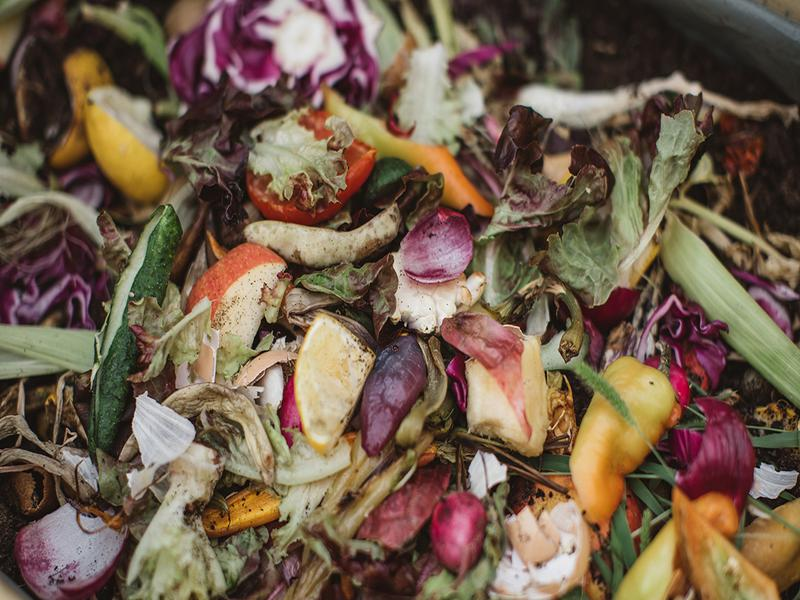vegetation: (4, 4, 800, 598)
